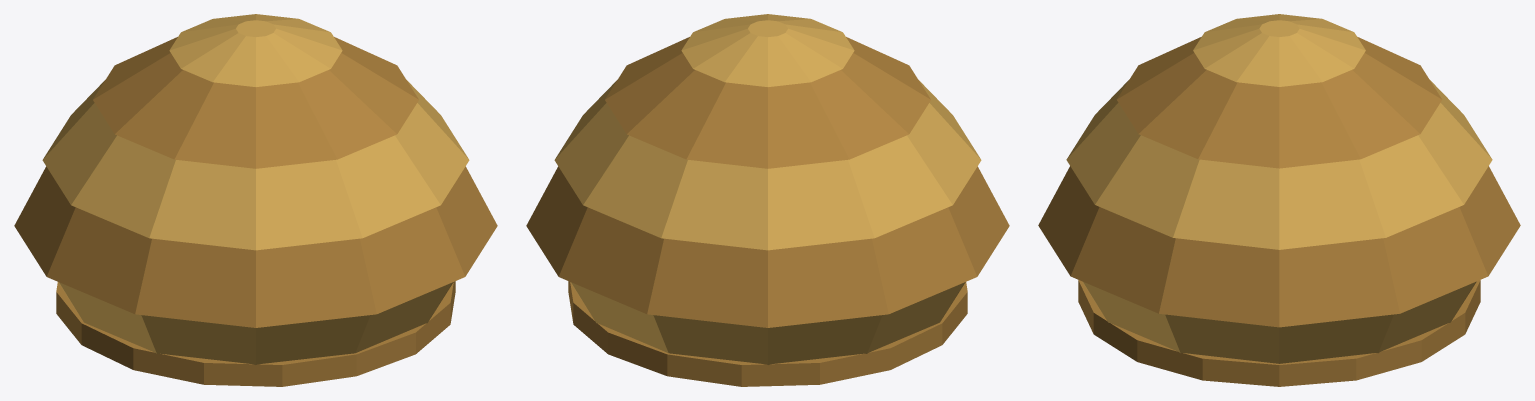
Rendered from haystack.glb.
3 views of the same model, side by side, from view 1: azimuth 30°, elevation 25°; view 2: azimuth 150°, elevation 25°; view 3: azimuth 270°, elevation 25° (orthographic).
Visible parts, largest first — view 1: haystack; view 2: haystack; view 3: haystack.
Boxes of the visible parts, x1=… form: haystack: x1=14, y1=14, x2=497, y2=386; haystack: x1=526, y1=14, x2=1009, y2=386; haystack: x1=1038, y1=14, x2=1520, y2=386.
Bounding box in the file's own units: 2.4 × 1.5 × 2.4.
